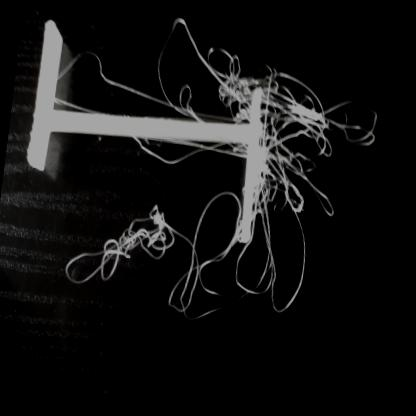fail: (242, 66, 382, 326), (62, 168, 243, 327), (106, 7, 262, 132)
